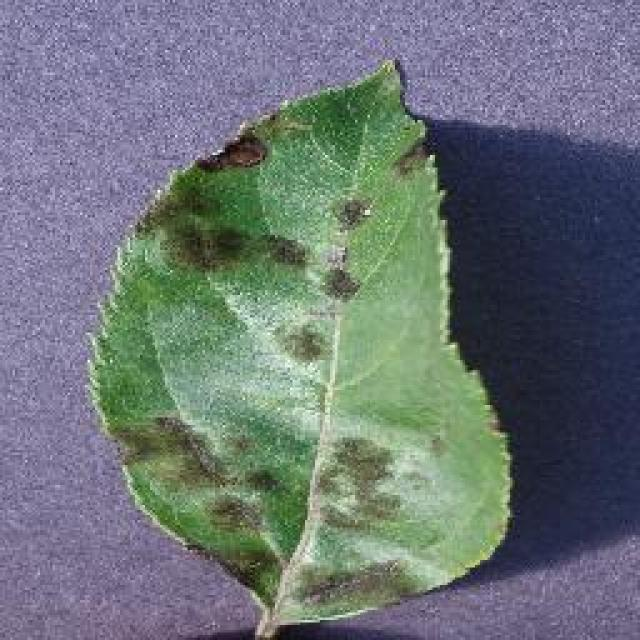apple scab disease: (82, 55, 518, 637)
